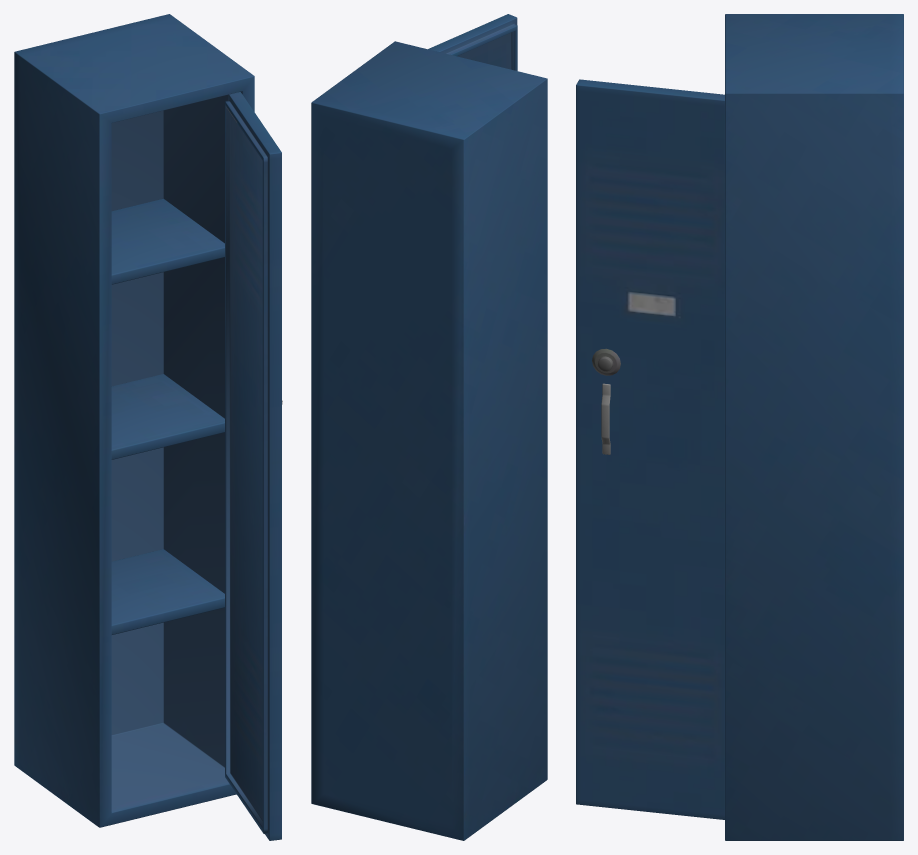
Rendered from locker_blue_open.glb.
3 renders of one model, left to right at view 1: azimuth 30°, elevation 25°; view 2: azimuth 150°, elevation 25°; view 3: azimuth 270°, elevation 25°, orthographic. The views are drawn at different scales.
Visible parts, largest first — view 1: cabine low.011_Material.001_0; view 2: cabine low.011_Material.001_0; view 3: cabine low.011_Material.001_0.
Boxes of the visible parts, box(x1,y1,x2,y2) form: cabine low.011_Material.001_0: box(14, 14, 282, 840); cabine low.011_Material.001_0: box(311, 14, 547, 840); cabine low.011_Material.001_0: box(576, 14, 903, 840).
Size of the model in its own units: 0.4333 by 1.9 by 0.7548.
1 material, 1 textured.
